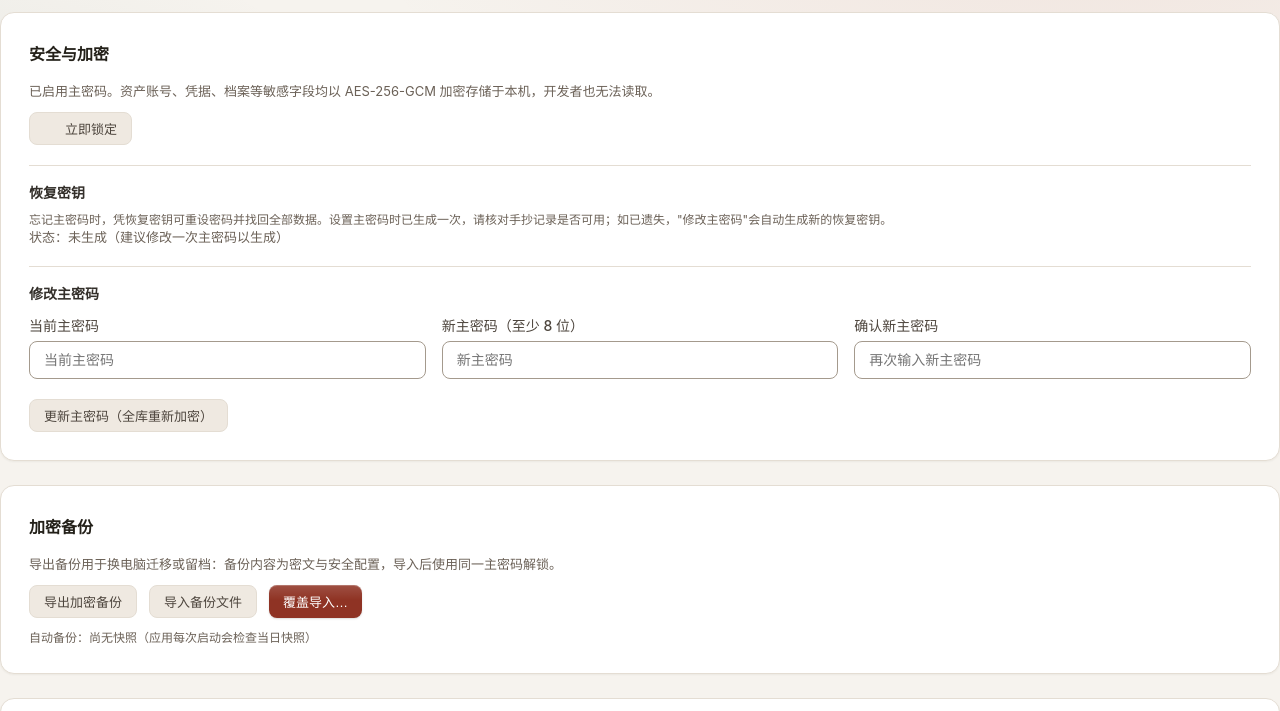
Test: 改主密码（changeMasterPassword） › 成功后必须展示轮换的新恢复码
The image size is (1280, 711).
(page scrolled)
Type "old-master-1" into the password field with placeholder "当前主密码" at (227,360), box left=29, top=341, right=426, bottom=379
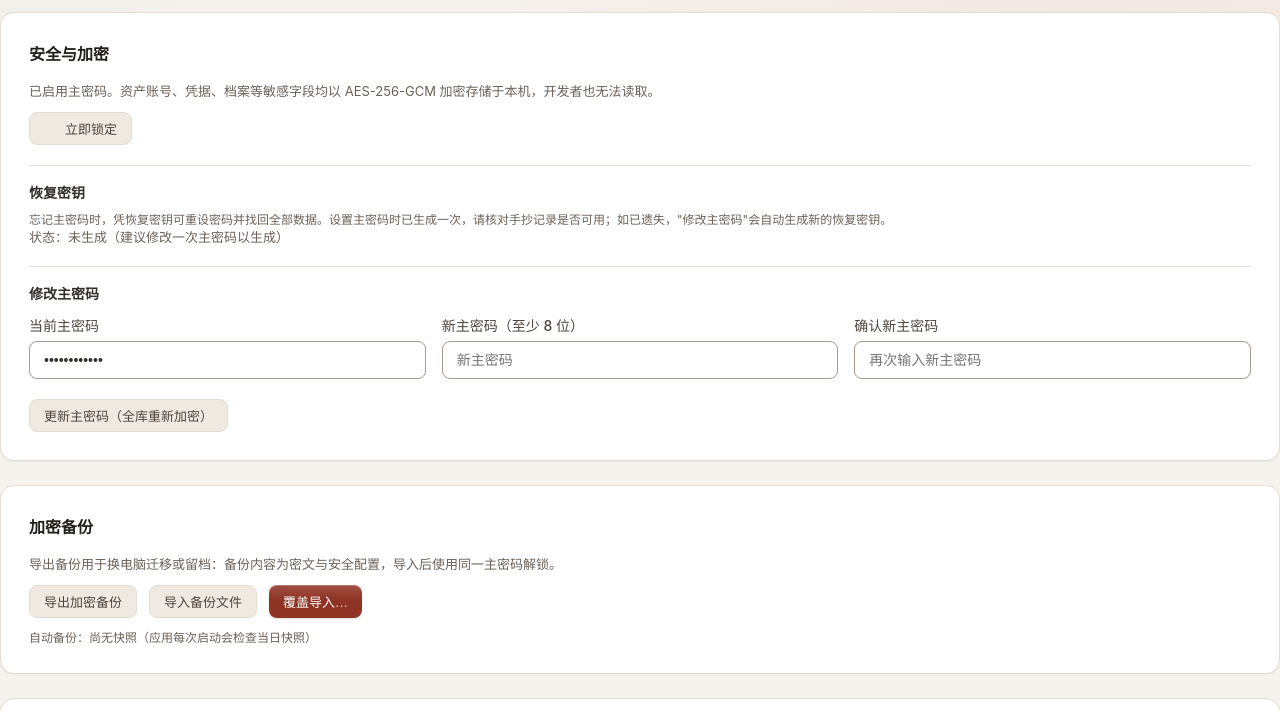
Type "new-master-22" into the password field labelled "新主密码（至少 8 位）" at (640,360), box left=442, top=341, right=838, bottom=379
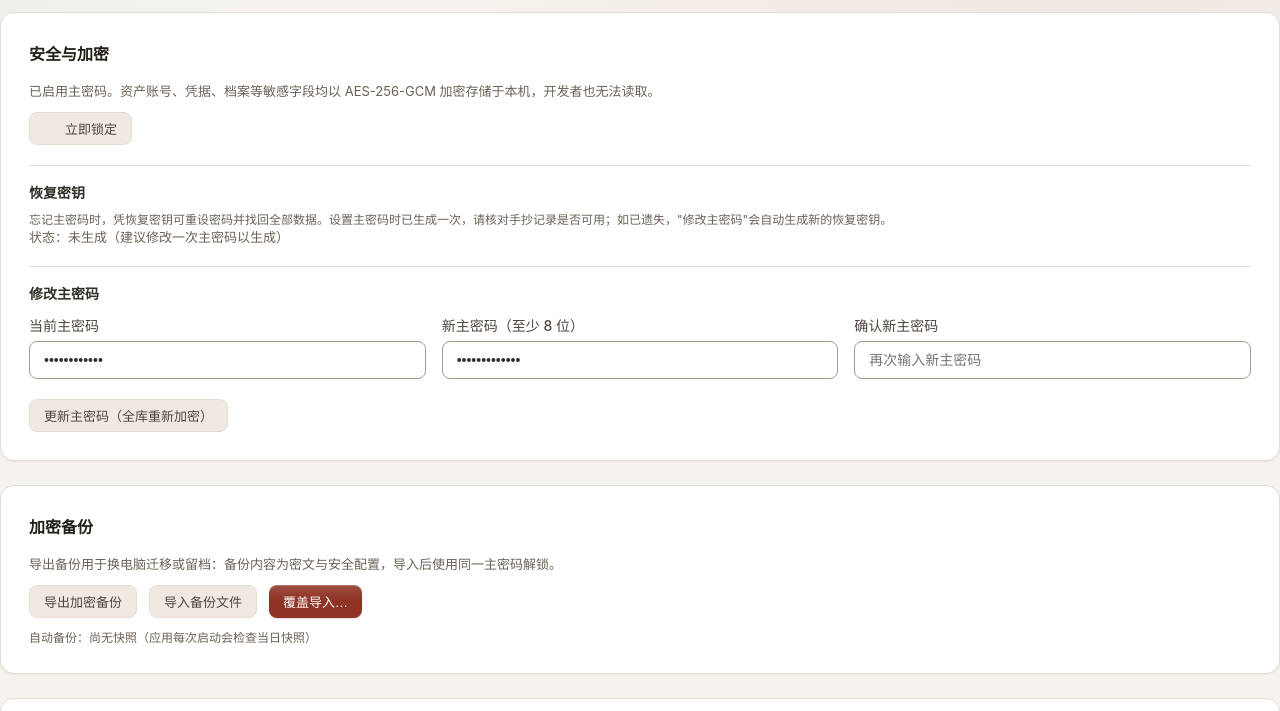
Type "new-master-22" into the password field labelled "确认新主密码" at (1053,360), box left=854, top=341, right=1251, bottom=379
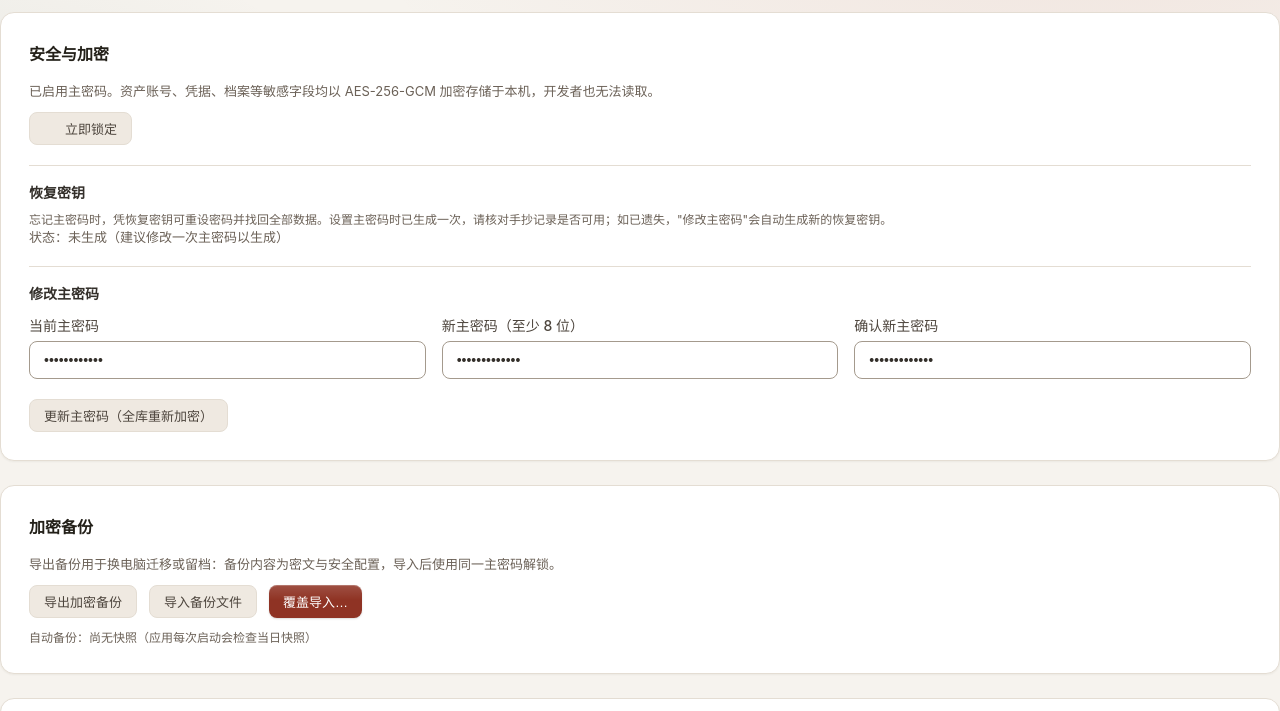
Click the button "更新主密码（全库重新加密）" at (128,416), box left=29, top=399, right=228, bottom=432
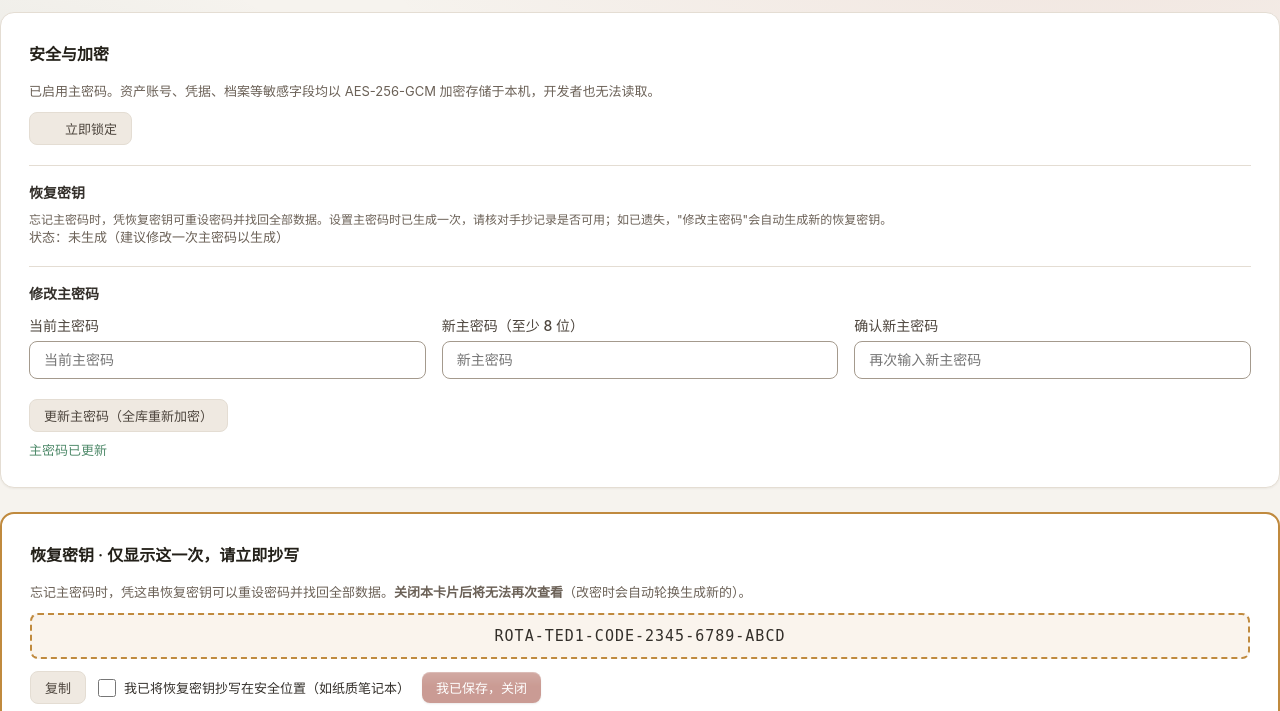
Expected: the text "ROTA-TED1-CODE-2345-6789-ABCD" is shown, left=30, top=613, right=1250, bottom=659
